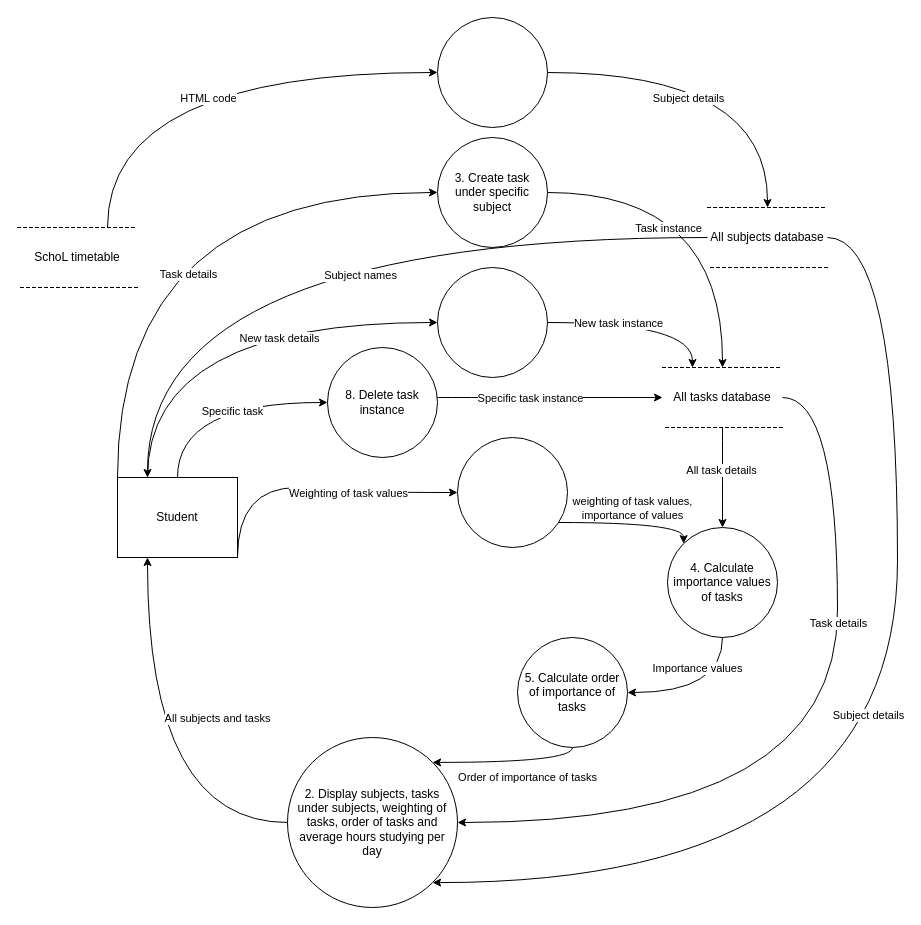
Some shapes in this 921 by 925 pixel diagram are drawn without their labels. The shapes that lost their labels are listed below. From the top down, each one's centre as x and y in pixels, then its label:
the point at 492,72: 1. Scrape subject names, teacher, colours
the point at 492,322: 6. Replace task instance
the point at 512,492: 7. Change weighting of task value/s
